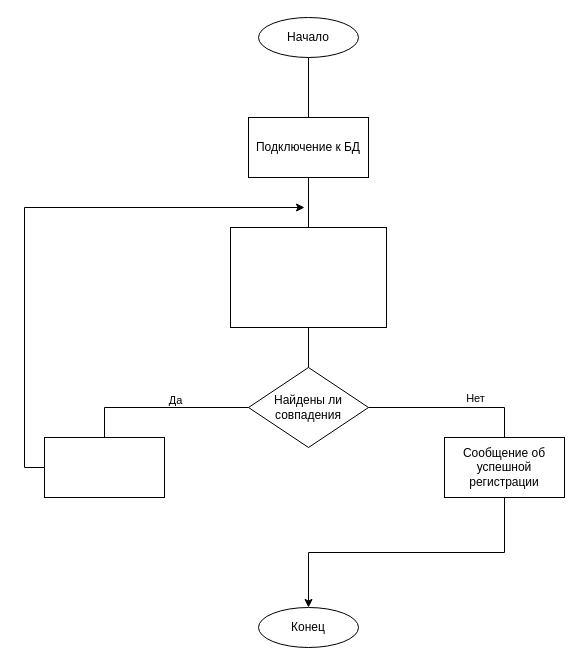
Some shapes in this 582 by 665 pixel diagram are drawn without their labels. The centre of each missing label's shape, as x and y in pixels:
"Ввод имени пользователя, фамилии пользователя, логина и пароля" belongs at (308,277).
"Сообщение о существовании пользователя с такими данными" belongs at (104,467).
